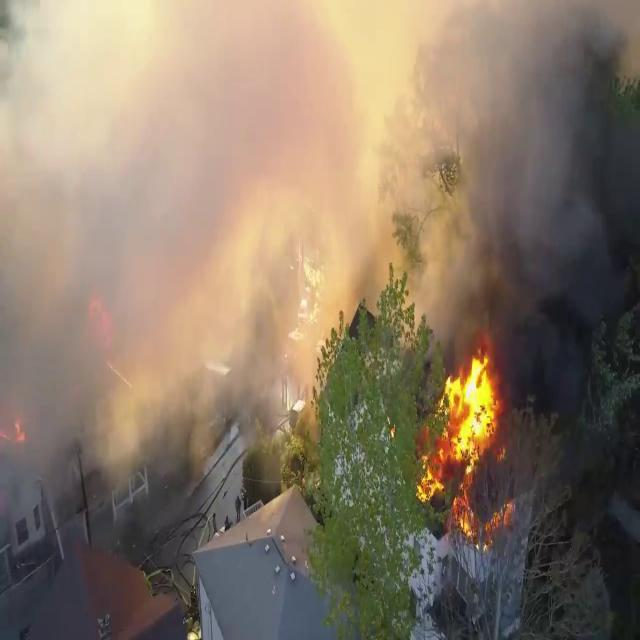Fire: (415, 348, 515, 538)
Smoke: (0, 1, 337, 515), (375, 0, 640, 358)
